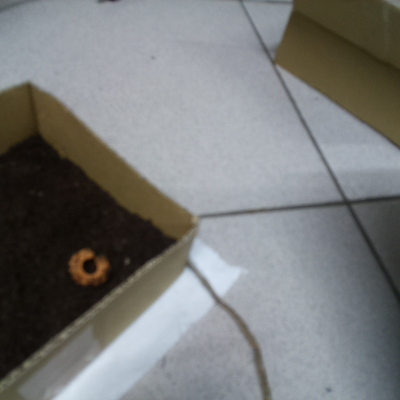eggs: (60, 243, 114, 293)
